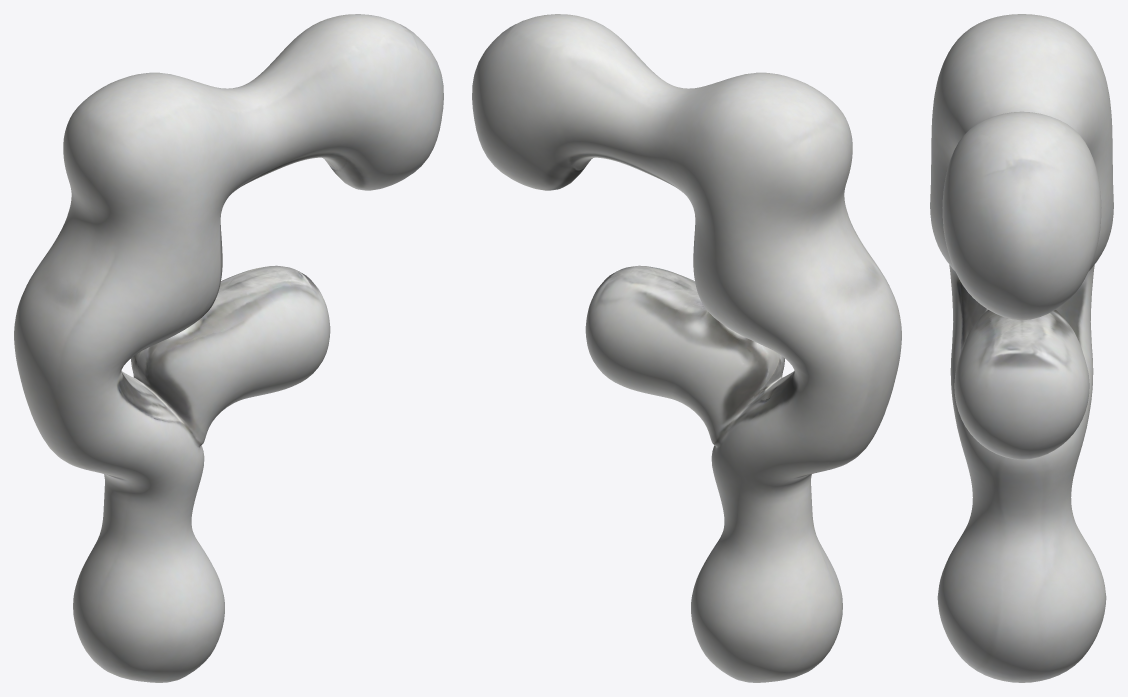
The model's file is Silver_Flow_F_0110005906_texture.glb.
3 views of the same model, side by side, from view 1: azimuth 30°, elevation 25°; view 2: azimuth 150°, elevation 25°; view 3: azimuth 270°, elevation 25° (orthographic). The views are drawn at different scales.
Size of the model in its own units: 1.42 by 2 by 0.5016.
Materials: 1 (1 with a texture image).
